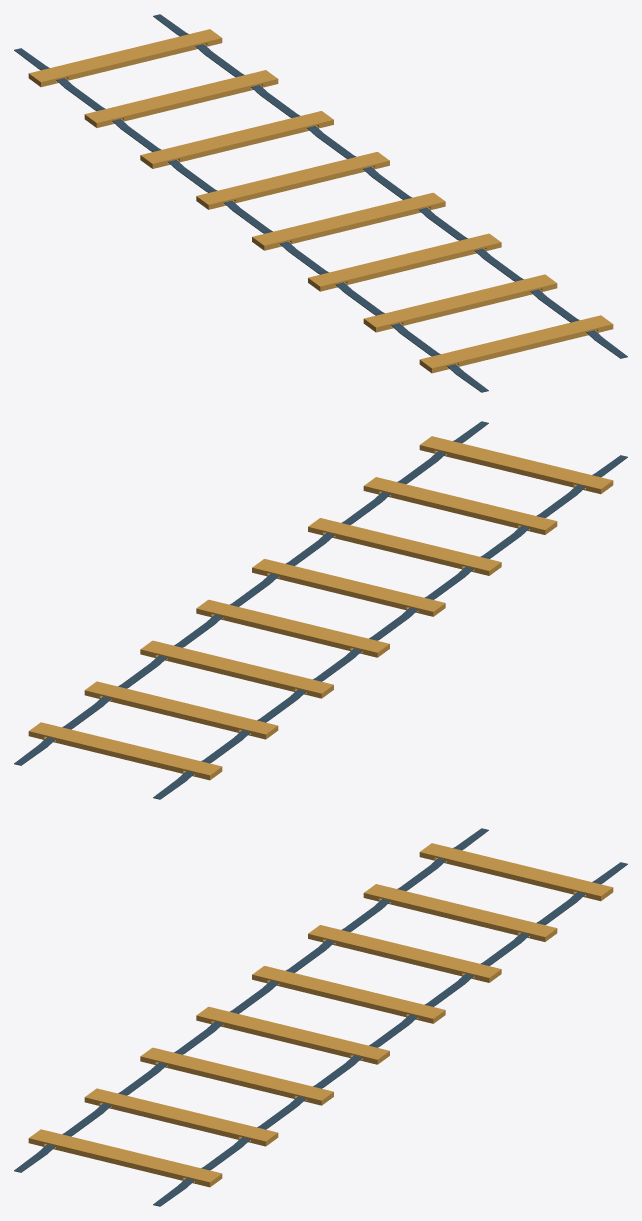
3 renders of one model, top to bottom at view 1: azimuth 30°, elevation 25°; view 2: azimuth 150°, elevation 25°; view 3: azimuth 330°, elevation 25°, orthographic.
Visible parts, largest first — view 1: WholeRightContinuousWebbing, WholeLeftContinuousWebbing, WholeTwinSlottedFlatRung08, WholeTwinSlottedFlatRung01, WholeTwinSlottedFlatRung02, WholeTwinSlottedFlatRung07, WholeTwinSlottedFlatRung03, WholeTwinSlottedFlatRung04, WholeTwinSlottedFlatRung06, WholeTwinSlottedFlatRung05; view 2: WholeRightContinuousWebbing, WholeLeftContinuousWebbing, WholeTwinSlottedFlatRung01, WholeTwinSlottedFlatRung07, WholeTwinSlottedFlatRung08, WholeTwinSlottedFlatRung02, WholeTwinSlottedFlatRung03, WholeTwinSlottedFlatRung05, WholeTwinSlottedFlatRung06, WholeTwinSlottedFlatRung04; view 3: WholeLeftContinuousWebbing, WholeRightContinuousWebbing, WholeTwinSlottedFlatRung08, WholeTwinSlottedFlatRung01, WholeTwinSlottedFlatRung02, WholeTwinSlottedFlatRung07, WholeTwinSlottedFlatRung03, WholeTwinSlottedFlatRung04, WholeTwinSlottedFlatRung06, WholeTwinSlottedFlatRung05.
Boxes of the visible parts, bbox=[...] form: WholeRightContinuousWebbing: bbox=[153, 14, 627, 358]; WholeLeftContinuousWebbing: bbox=[14, 48, 488, 392]; WholeTwinSlottedFlatRung08: bbox=[28, 29, 222, 87]; WholeTwinSlottedFlatRung01: bbox=[419, 315, 613, 373]; WholeTwinSlottedFlatRung02: bbox=[363, 274, 557, 332]; WholeTwinSlottedFlatRung07: bbox=[84, 70, 278, 127]; WholeTwinSlottedFlatRung03: bbox=[308, 233, 501, 291]; WholeTwinSlottedFlatRung04: bbox=[252, 192, 445, 250]; WholeTwinSlottedFlatRung06: bbox=[140, 111, 333, 168]; WholeTwinSlottedFlatRung05: bbox=[196, 152, 389, 209]; WholeRightContinuousWebbing: bbox=[14, 421, 488, 765]; WholeLeftContinuousWebbing: bbox=[153, 455, 627, 799]; WholeTwinSlottedFlatRung01: bbox=[419, 436, 613, 494]; WholeTwinSlottedFlatRung07: bbox=[84, 681, 278, 739]; WholeTwinSlottedFlatRung08: bbox=[28, 722, 222, 780]; WholeTwinSlottedFlatRung02: bbox=[363, 477, 557, 534]; WholeTwinSlottedFlatRung03: bbox=[308, 518, 501, 575]; WholeTwinSlottedFlatRung05: bbox=[196, 599, 389, 657]; WholeTwinSlottedFlatRung06: bbox=[140, 640, 333, 698]; WholeTwinSlottedFlatRung04: bbox=[252, 559, 445, 616]; WholeLeftContinuousWebbing: bbox=[14, 828, 488, 1172]; WholeRightContinuousWebbing: bbox=[153, 862, 627, 1206]; WholeTwinSlottedFlatRung08: bbox=[419, 843, 613, 901]; WholeTwinSlottedFlatRung01: bbox=[28, 1129, 222, 1187]; WholeTwinSlottedFlatRung02: bbox=[84, 1088, 278, 1146]; WholeTwinSlottedFlatRung07: bbox=[363, 884, 557, 941]; WholeTwinSlottedFlatRung03: bbox=[140, 1047, 333, 1105]; WholeTwinSlottedFlatRung04: bbox=[196, 1006, 389, 1064]; WholeTwinSlottedFlatRung06: bbox=[308, 925, 501, 982]; WholeTwinSlottedFlatRung05: bbox=[252, 966, 445, 1023].
Size of the model in its own units: 0.6 by 0.016 by 2.68.
